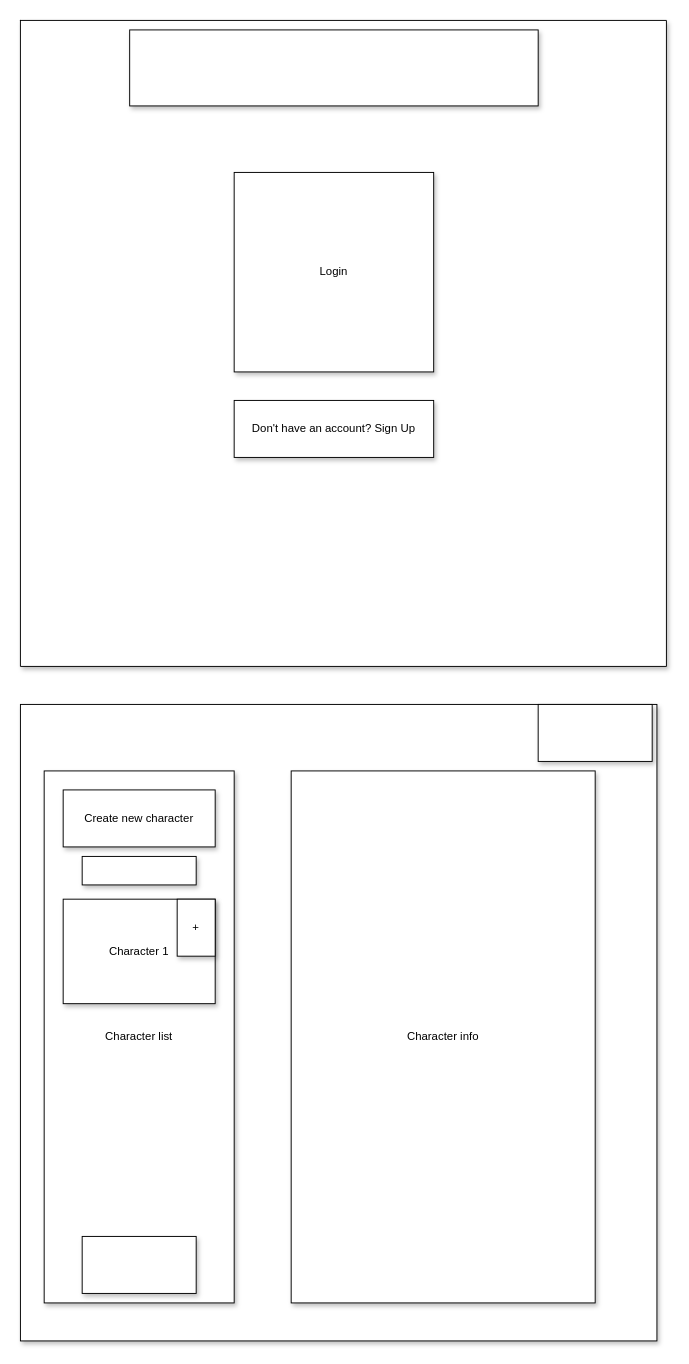
Some shapes in this 689 by 1364 pixel diagram are drawn without their labels. The shapes that lost their labels are listed below. From the top down, each one's centre as x and y in pixels, then its label:
pixel 334 69: Character Vault
pixel 595 734: Log Out
pixel 139 872: Search
pixel 139 1266: Books
